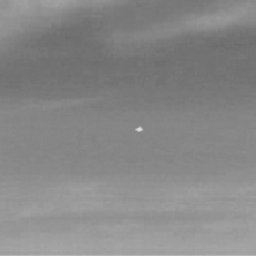Target: (132, 125, 143, 132)
